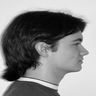ear: (32, 35, 57, 62)
